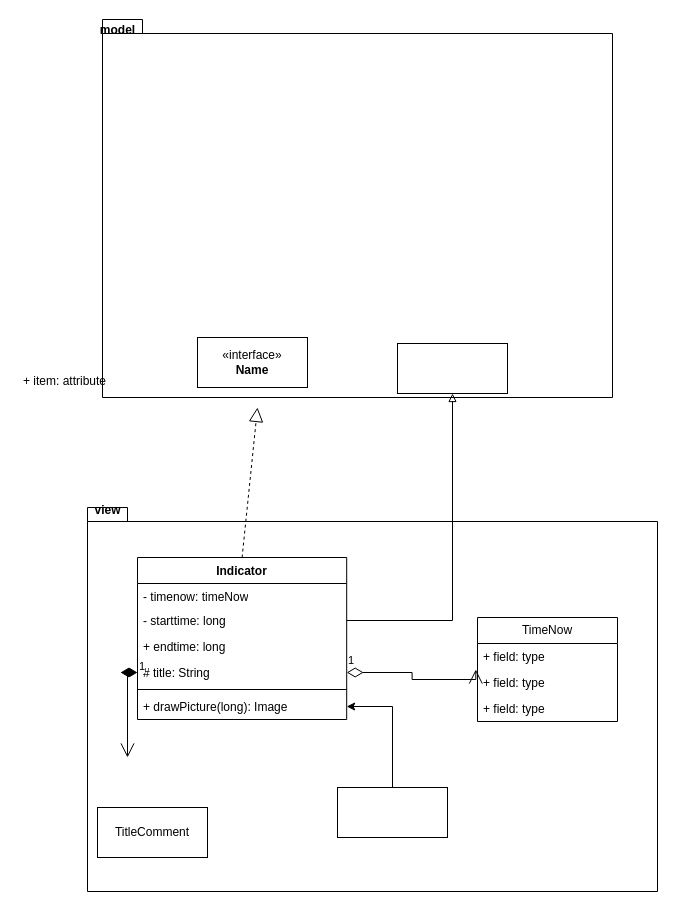
Some shapes in this 675 by 909 pixel diagram are drawn without their labels. Each missing label, with the centre of its shape:
"IIndicator" goes at point (452, 368).
"MyImage" goes at point (392, 812).
